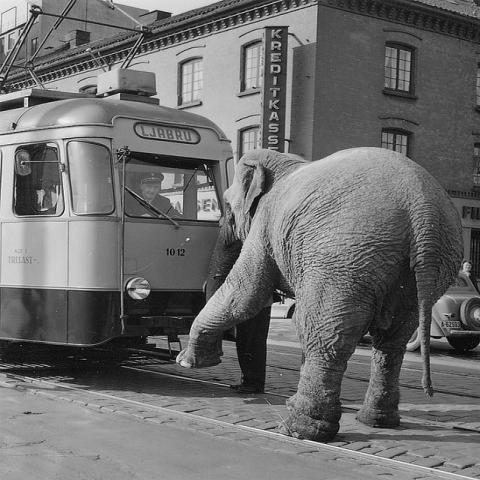bus: (0, 70, 238, 366)
car: (401, 270, 479, 358)
